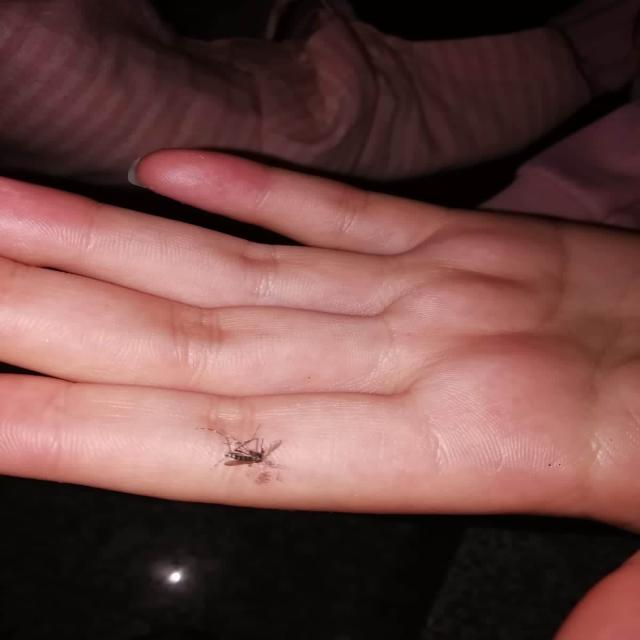albopictus: (189, 414, 288, 474)
